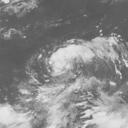cyclone: (43, 35, 121, 102)
